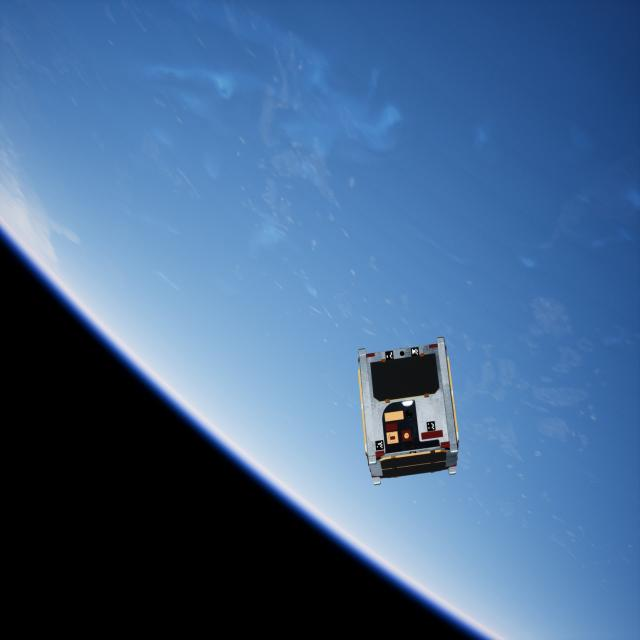medium_debris: (354, 339, 467, 489)
